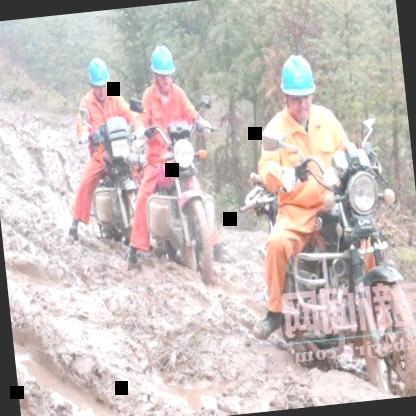helmet: (274, 47, 320, 124), (145, 40, 178, 93), (80, 53, 112, 97)
